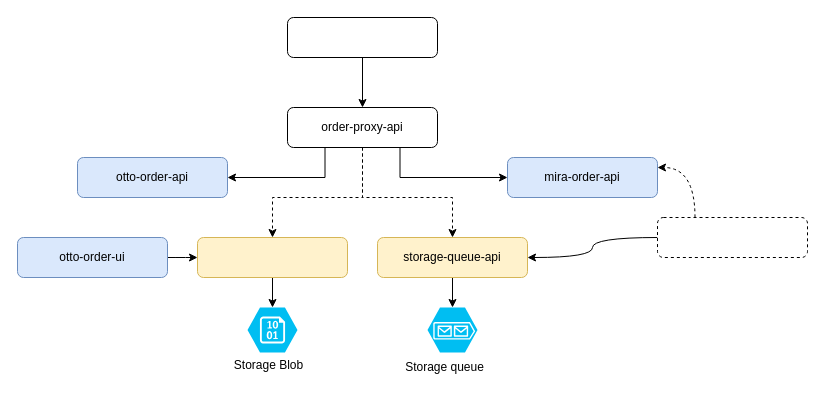
This 825x400 diagram has some shape labels left out. The box of each missing label's shape, as (x1, y1, x2, y2) in pixels:
mira-reprocessor: (656, 216, 808, 258)
order-management-api: (286, 16, 438, 58)
storage-blob-api: (196, 236, 348, 278)
